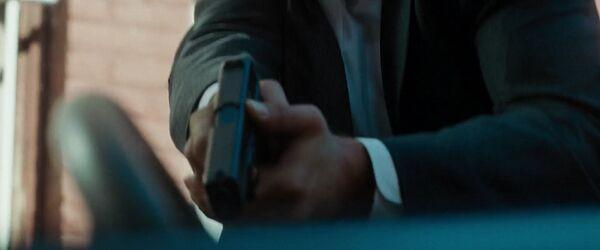Gun: (204, 56, 266, 216)
